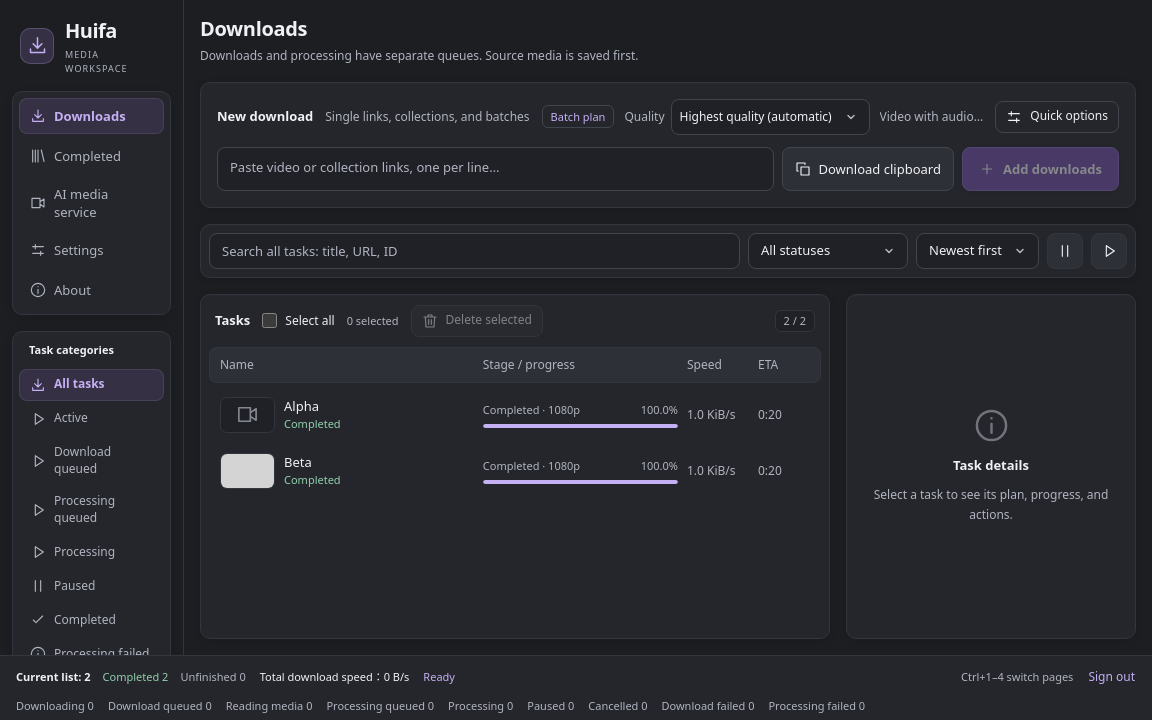
Test: live interface stability › keeps newer live state when the delete refresh returns an older snapshot
Expected: the list is shown, [220, 397, 782, 489]
Step 1. Type "still editing" into the text box named "Download links" → (495, 169), box [217, 147, 774, 191]
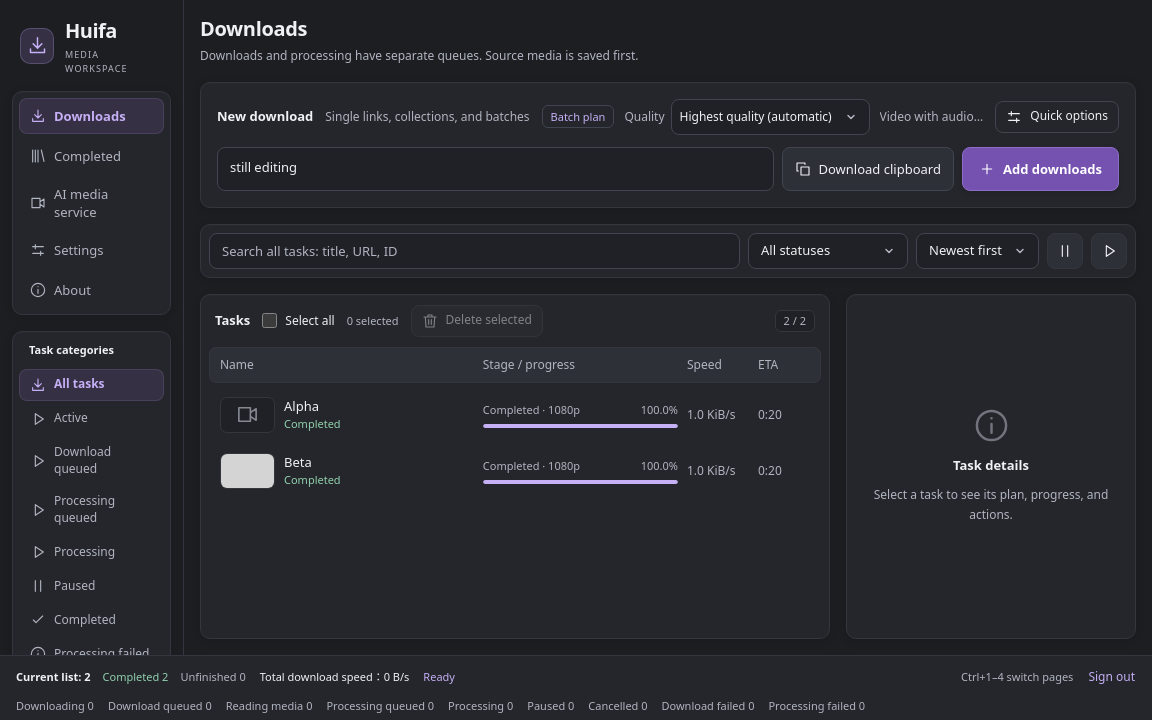
Step 2. Right-click the option "Alpha Completed Completed · 1080p 100.0% 1.0 KiB/s 0:20" → (515, 415), box [209, 387, 821, 443]
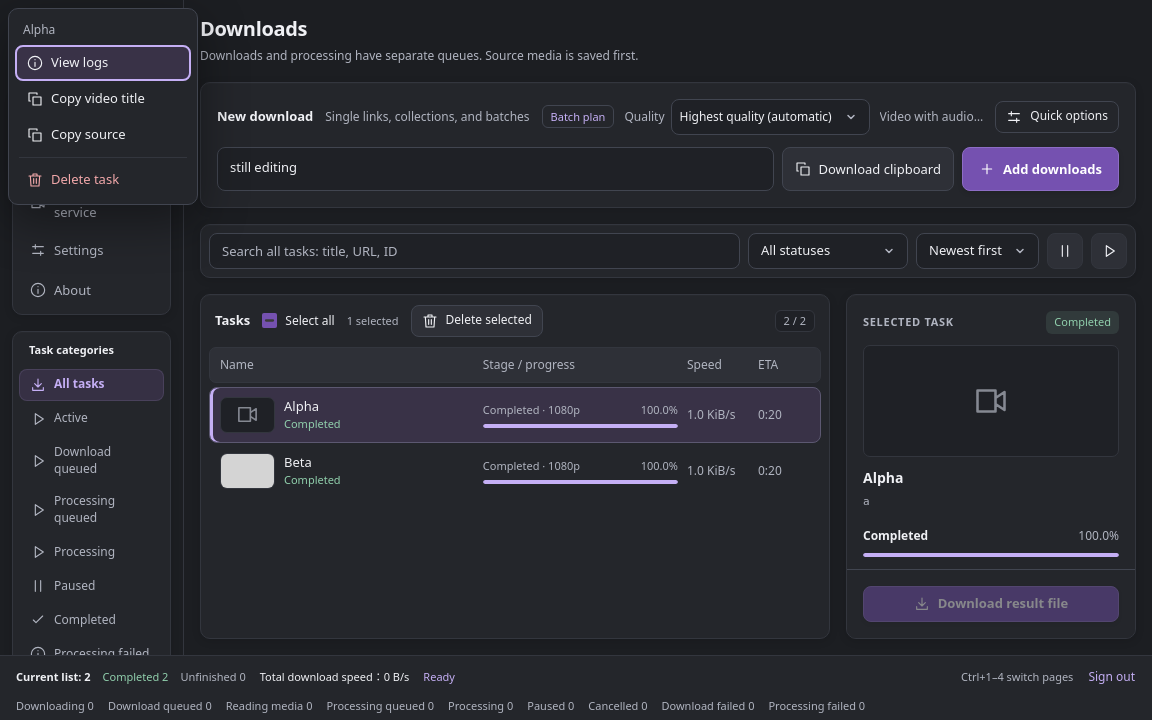
Step 3. Click the menu item "Delete task" → (103, 180), box [15, 162, 191, 198]
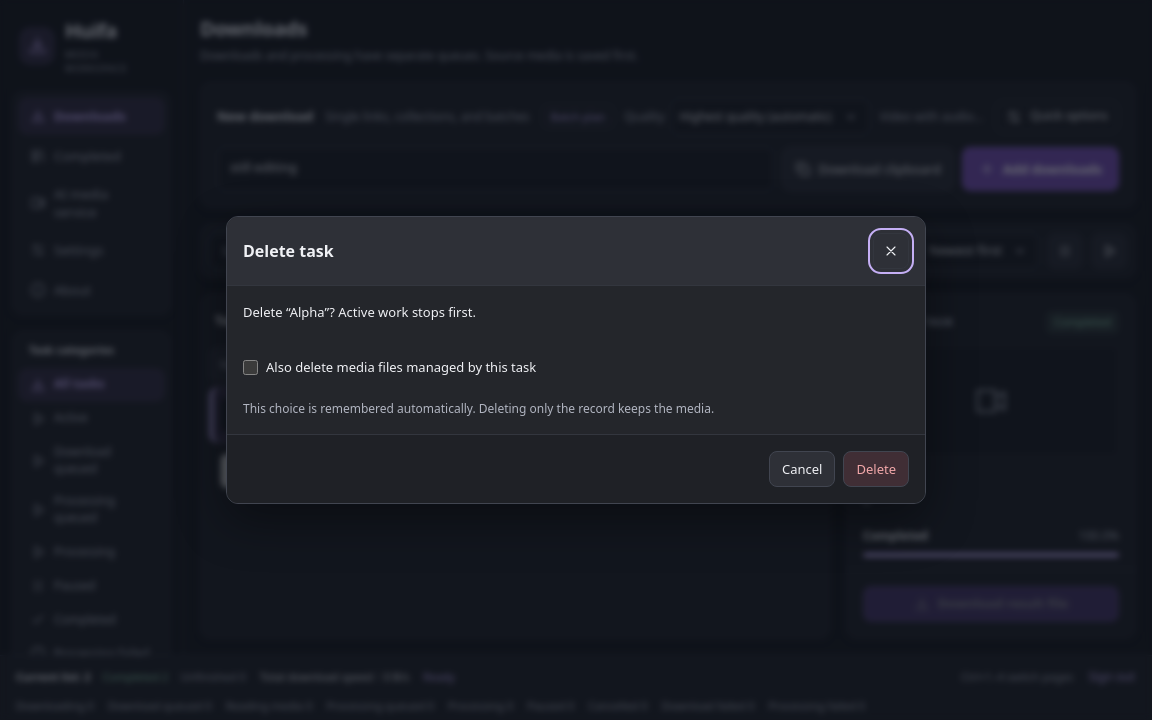
Step 4. Click the button "Delete" → (876, 469), box [844, 451, 909, 487]
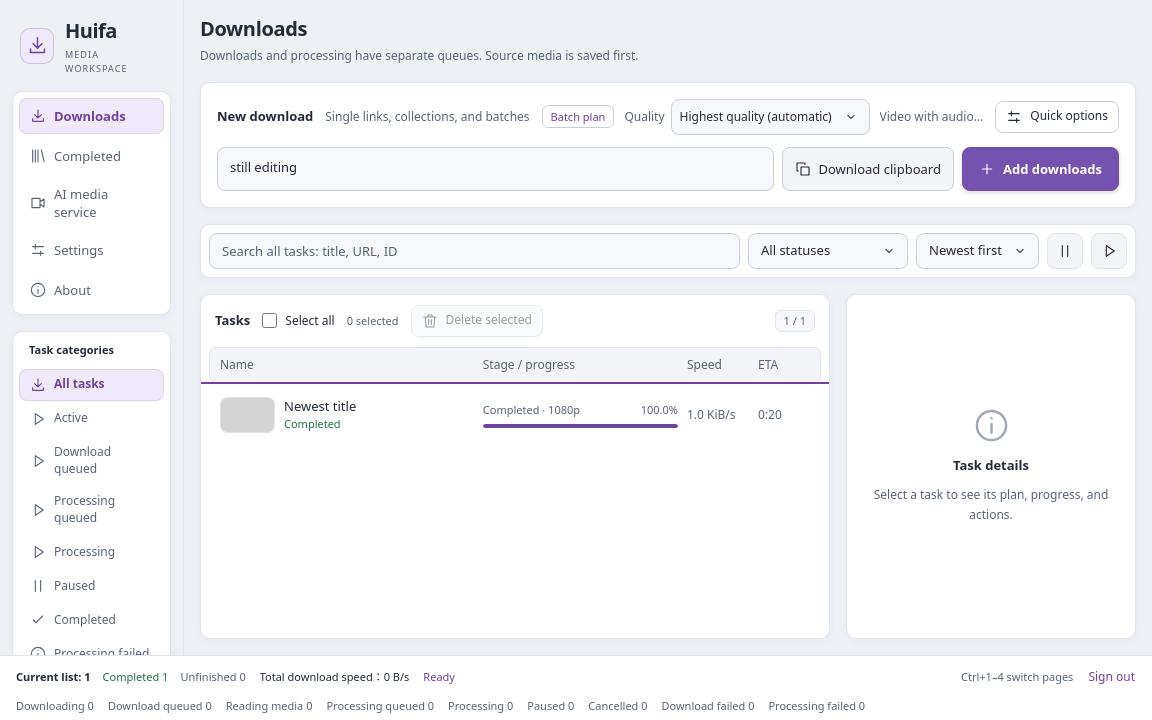
Expected: the text "Newest title" is shown, [284, 397, 356, 415]
